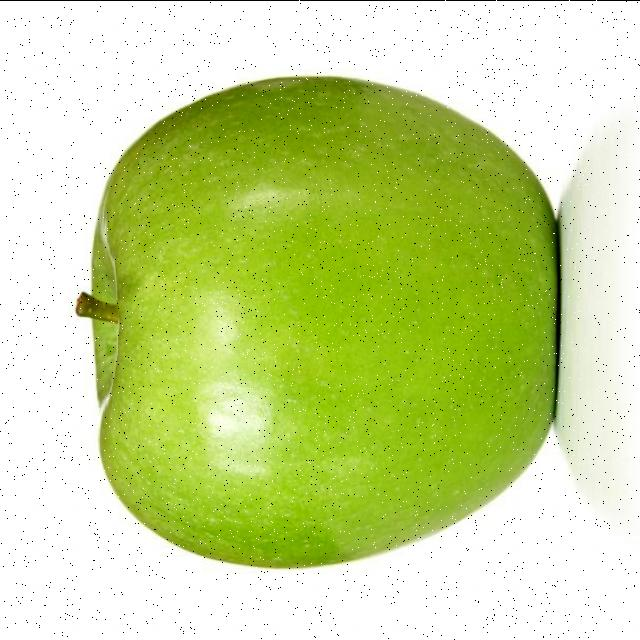HEALTHY: (55, 58, 582, 590)
